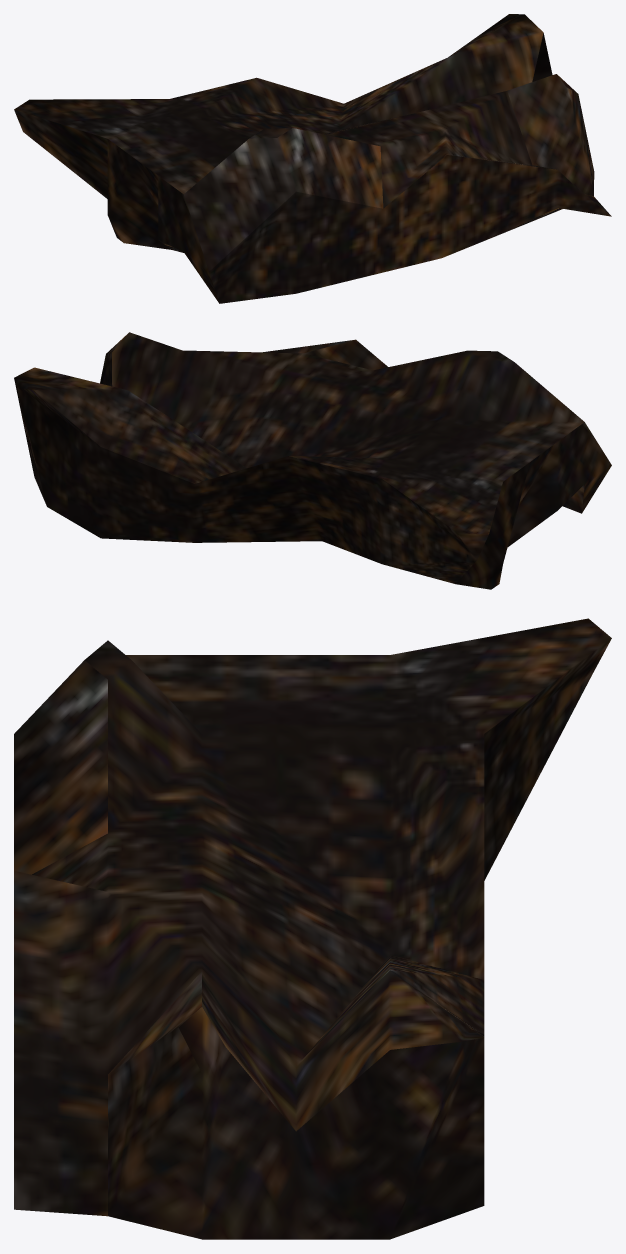
File: SmallRock_B.fbx
The picture shows the model from 3 angles, top to bottom: view 1: azimuth 30°, elevation 25°; view 2: azimuth 150°, elevation 25°; view 3: azimuth 270°, elevation 25°; orthographic projection. The views are drawn at different scales.
Parts seen in each view (by area): view 1: pCube1; view 2: pCube1; view 3: pCube1.
Part boxes in pixels (x1,y1,x2,y2): pCube1: (14,14,611,303); pCube1: (14,332,611,589); pCube1: (14,618,611,1239).
Bounding box in the file's own units: 2.15 × 0.6865 × 1.26.
1 material, 1 textured.
